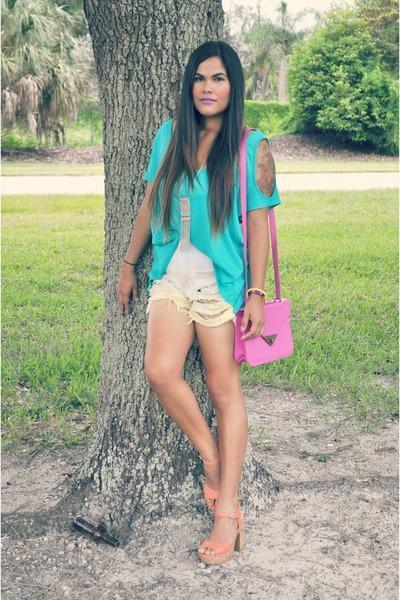bag: (228, 124, 292, 365)
shirt: (143, 120, 275, 312)
shoe: (199, 475, 257, 562)
shorts: (146, 198, 235, 330)
